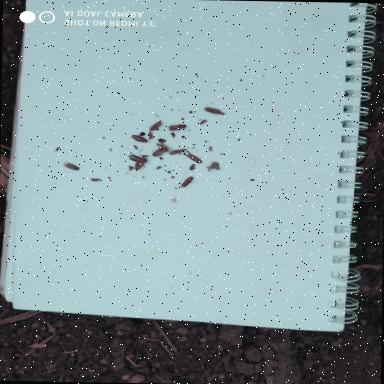pbw: (179, 176, 195, 190), (185, 152, 203, 164), (134, 156, 149, 170), (204, 106, 222, 116), (62, 162, 80, 172), (130, 134, 148, 144), (149, 119, 164, 131), (168, 124, 188, 132), (168, 148, 188, 156)
